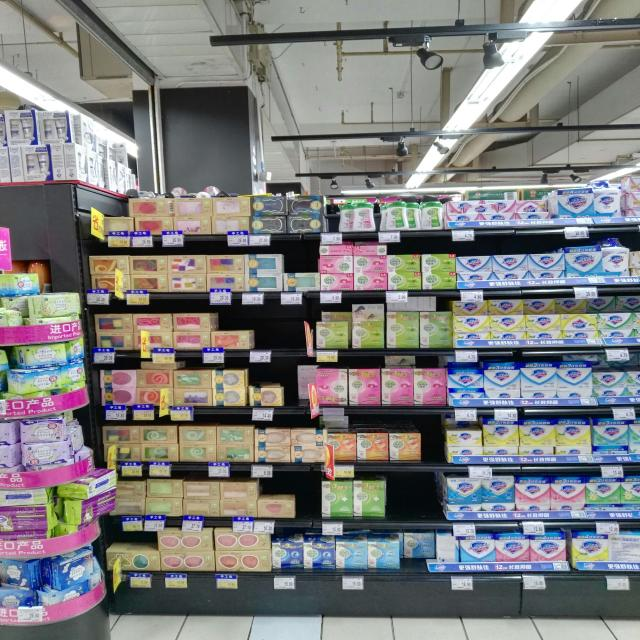void: (414, 472, 440, 532), (282, 303, 308, 362), (390, 474, 412, 533), (256, 306, 278, 362), (298, 481, 319, 530), (425, 429, 445, 471)
